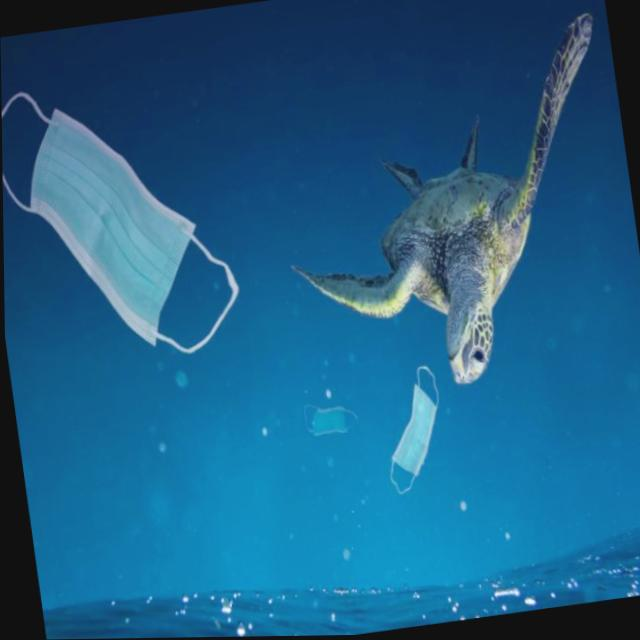Mask: (1, 65, 245, 377), (374, 365, 450, 498), (301, 397, 358, 440)
